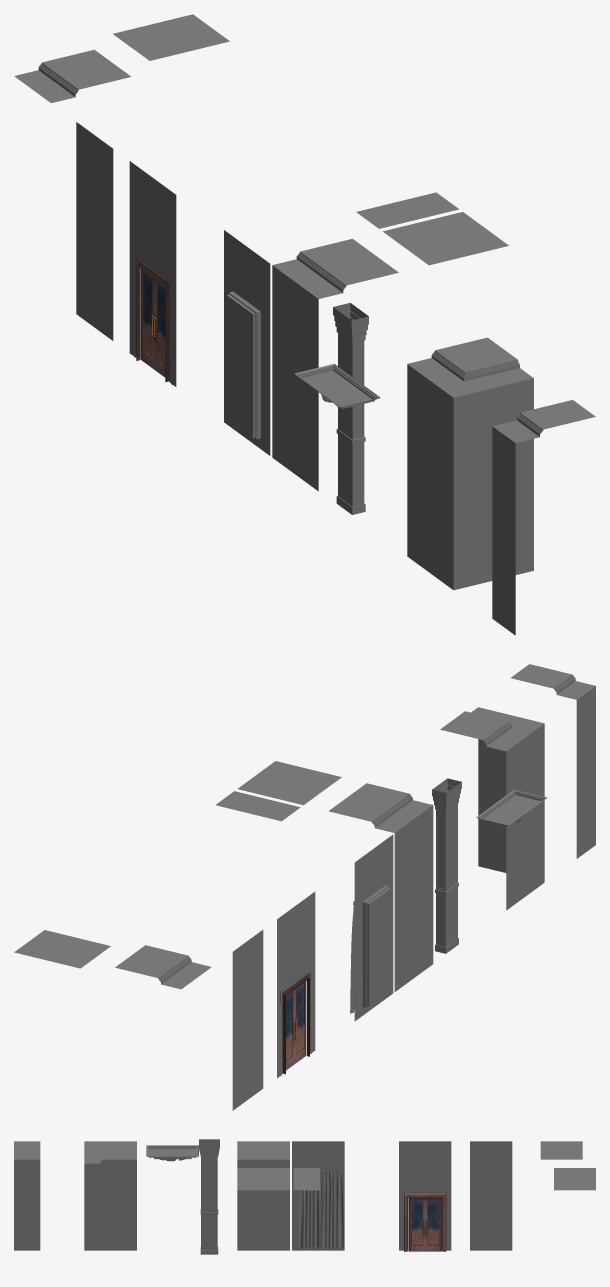
Rendered from halle_3_Asset.fbx.
The picture shows the model from 3 angles, top to bottom: view 1: azimuth 30°, elevation 25°; view 2: azimuth 150°, elevation 25°; view 3: azimuth 270°, elevation 25°; orthographic projection. The views are drawn at different scales.
Visible parts, largest first — view 1: Hall_3_wall Cornor, Hall_3_Window wall, Hall_3_wall, Hall_3_wall-8, Hall_3_Door_Wall, Hall_3_Pillar, Hall_3_wall Half, Hall_3_Roof_Cornor, Hall_3_roof, Hall_3_roofSimple, Hall_3_roof-8, Hall_3_roofSimple 8 (+5 smaller); view 2: Hall_3_wall Cornor, Hall_3_Window wall, Hall_3_wall, Hall_3_wall-8, Hall_3_Door_Wall, Hall_3_Pillar, Hall_3_wall Half, Hall_3_roof, Hall_3_roofSimple, Hall_3_Roof_Cornor, Hall_3_roof-8, Hall_3_roofSimple 8 (+5 smaller); view 3: Hall_3_Window wall, Hall_3_wall Cornor, Hall_3_wall-8, Hall_3_Door_Wall, Hall_3_wall, Hall_3_wall Half, Hall_3_Pillar, Hall_3_roofSimple, Hall_3_Roof_Cornor, Hall_3_roof, Hall_3_roofSimple 8, Door004 (+5 smaller).
Part boxes in pixels (x1,y1,x2,y2): Hall_3_wall Cornor: [407, 364, 533, 590]; Hall_3_Window wall: [224, 230, 270, 455]; Hall_3_wall: [272, 265, 318, 491]; Hall_3_wall-8: [76, 122, 113, 340]; Hall_3_Door_Wall: [129, 161, 176, 386]; Hall_3_Pillar: [333, 302, 368, 514]; Hall_3_wall Half: [492, 426, 515, 635]; Hall_3_Roof_Cornor: [408, 337, 533, 397]; Hall_3_roof: [272, 238, 398, 298]; Hall_3_roofSimple: [383, 212, 508, 265]; Hall_3_roof-8: [14, 49, 131, 103]; Hall_3_roofSimple 8: [113, 14, 229, 60]; Hall_3_wall Cornor: [478, 724, 544, 910]; Hall_3_Window wall: [350, 834, 393, 1021]; Hall_3_wall: [394, 805, 433, 991]; Hall_3_wall-8: [232, 930, 263, 1110]; Hall_3_Door_Wall: [277, 891, 315, 1078]; Hall_3_Pillar: [432, 778, 461, 953]; Hall_3_wall Half: [576, 686, 595, 858]; Hall_3_roof: [329, 783, 432, 832]; Hall_3_roofSimple: [237, 761, 341, 805]; Hall_3_Roof_Cornor: [440, 707, 544, 751]; Hall_3_roof-8: [115, 945, 211, 989]; Hall_3_roofSimple 8: [14, 930, 110, 968]; Hall_3_Window wall: [292, 1141, 344, 1250]; Hall_3_wall Cornor: [84, 1159, 136, 1250]; Hall_3_wall-8: [470, 1141, 512, 1250]; Hall_3_Door_Wall: [399, 1141, 451, 1251]; Hall_3_wall: [237, 1159, 289, 1250]; Hall_3_wall Half: [14, 1159, 40, 1250]; Hall_3_Pillar: [199, 1139, 219, 1254]; Hall_3_roofSimple: [237, 1168, 289, 1190]; Hall_3_Roof_Cornor: [84, 1141, 136, 1163]; Hall_3_roof: [237, 1141, 289, 1159]; Hall_3_roofSimple 8: [554, 1168, 595, 1190]; Door004: [409, 1197, 425, 1251].
Bounding box in the file's own units: 9.43 × 7.25 × 33.69.
